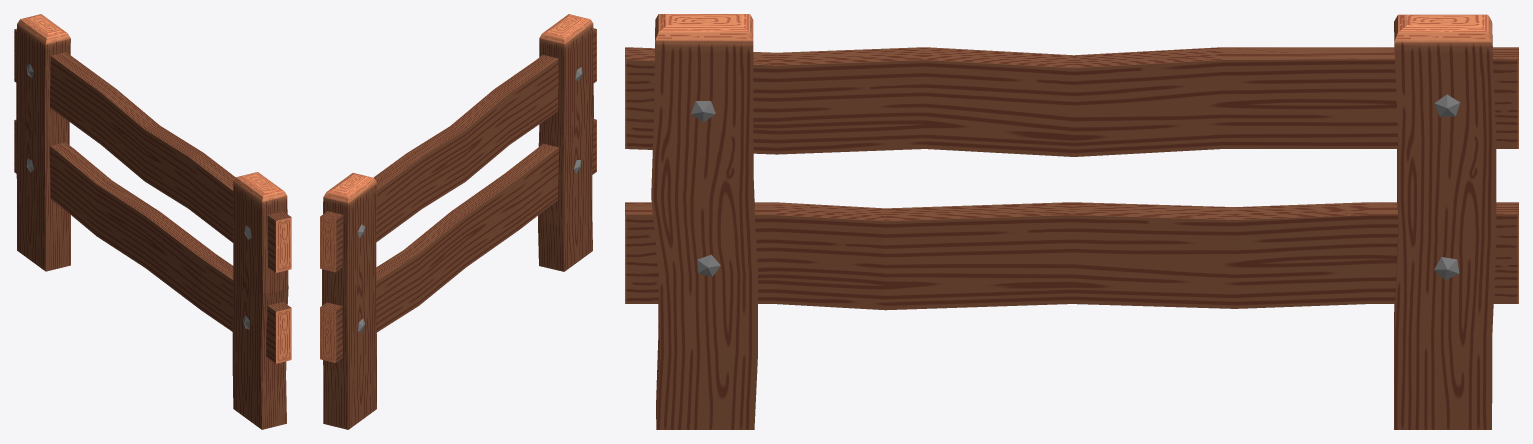
The model's file is fence.fbx.
The picture shows the model from 3 angles, left to right: view 1: azimuth 30°, elevation 25°; view 2: azimuth 150°, elevation 25°; view 3: azimuth 270°, elevation 25°; orthographic projection. The views are drawn at different scales.
Visible parts, largest first — view 1: post_top, post_bot, post_left, post_right; view 2: post_bot, post_top, post_left, post_right; view 3: post_top, post_bot, post_left, post_right.
Boxes of the visible parts, box(x1,y1,x2,y2) form: post_top: box(14, 28, 291, 272); post_bot: box(14, 119, 291, 363); post_left: box(232, 172, 288, 429); post_right: box(16, 14, 70, 271); post_bot: box(320, 119, 596, 362); post_top: box(320, 28, 596, 272); post_left: box(538, 14, 593, 271); post_right: box(322, 173, 376, 429); post_top: box(625, 47, 1518, 156); post_bot: box(625, 202, 1518, 310); post_left: box(651, 14, 757, 429); post_right: box(1394, 14, 1496, 429).
Size of the model in its own units: 117 by 899 by 1823.
3 materials, 2 textured.
